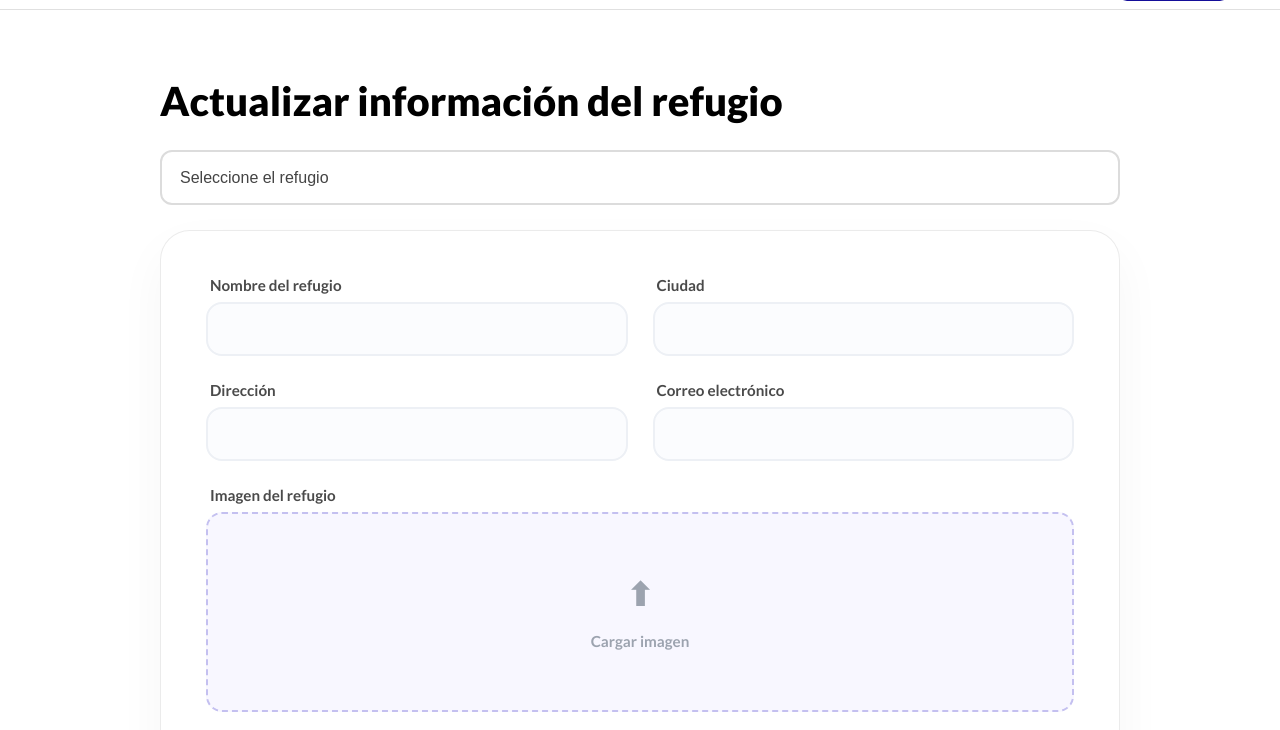
Test case: EditShelter Page › muestra errores si se envía con campos vacíos
This screenshot has width=1280, height=730.
Select "Huellitas" in the dropdown at (640, 178), box [160,150,1120,205]
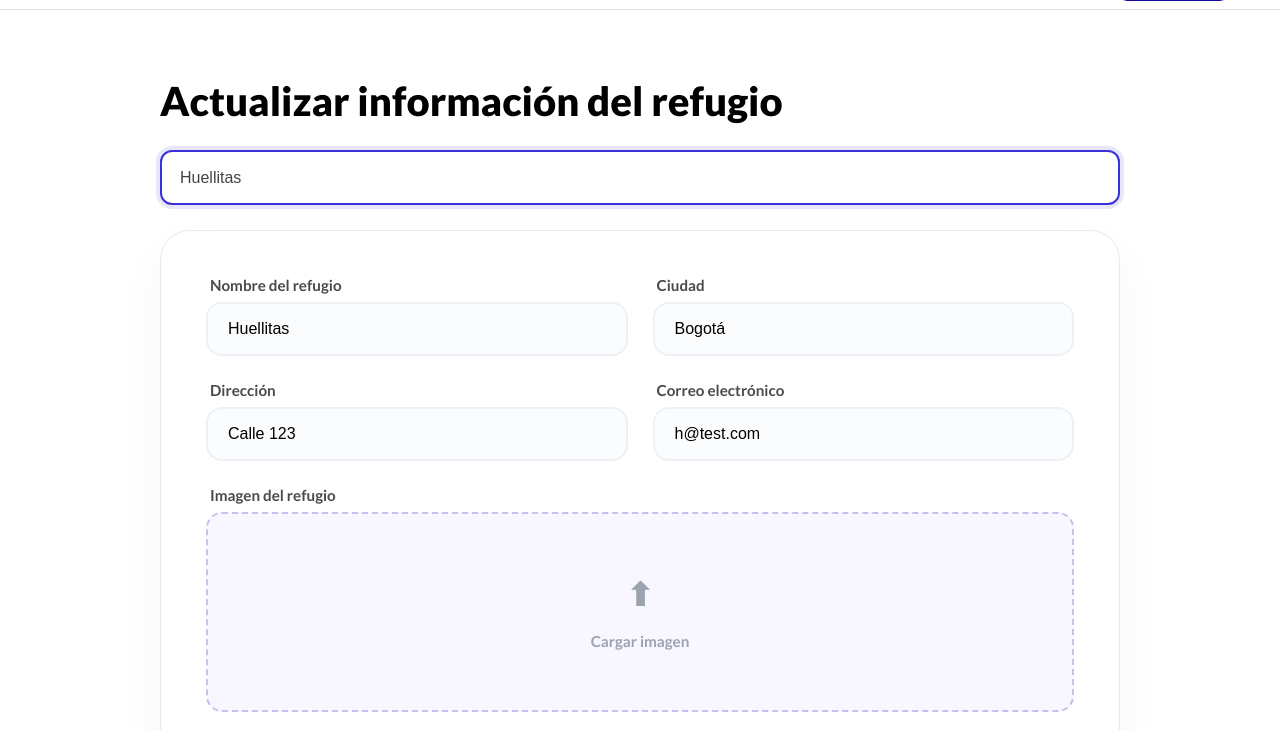
Clear the field named "name" below "Nombre del refugio" at (417, 329), box [206,302,628,356]
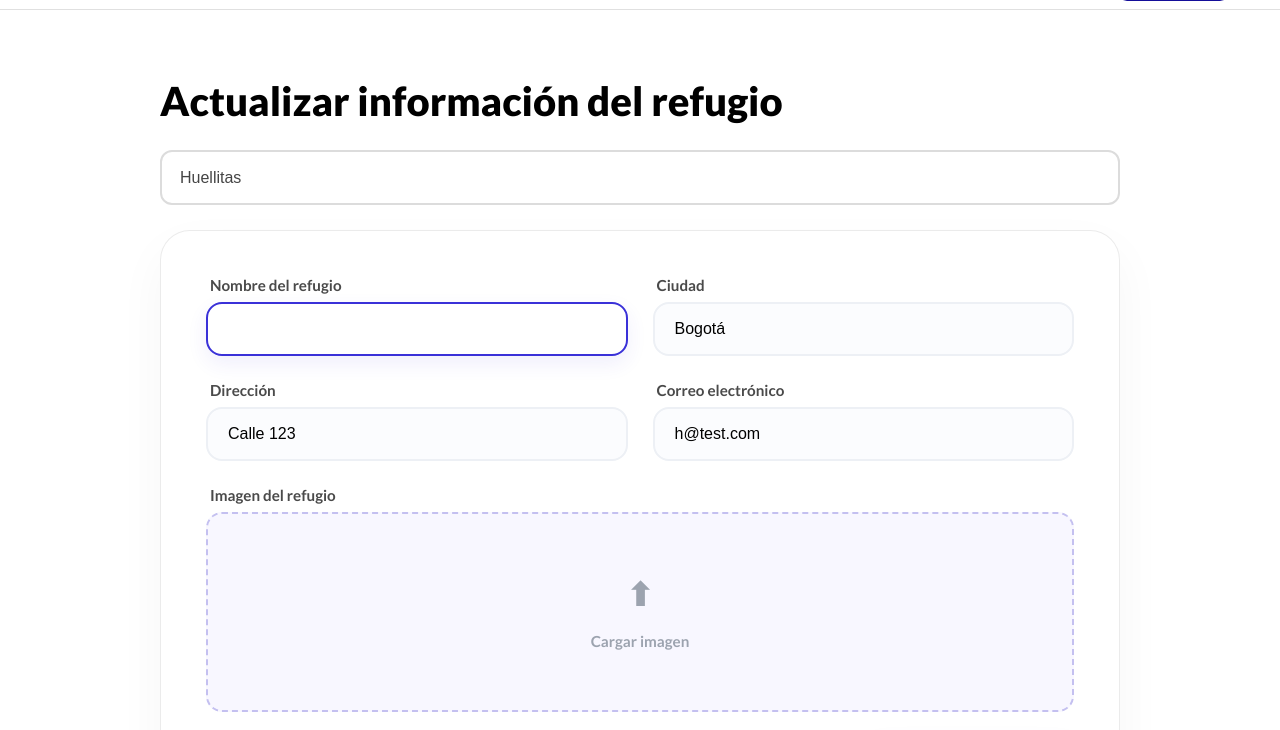
Scroll
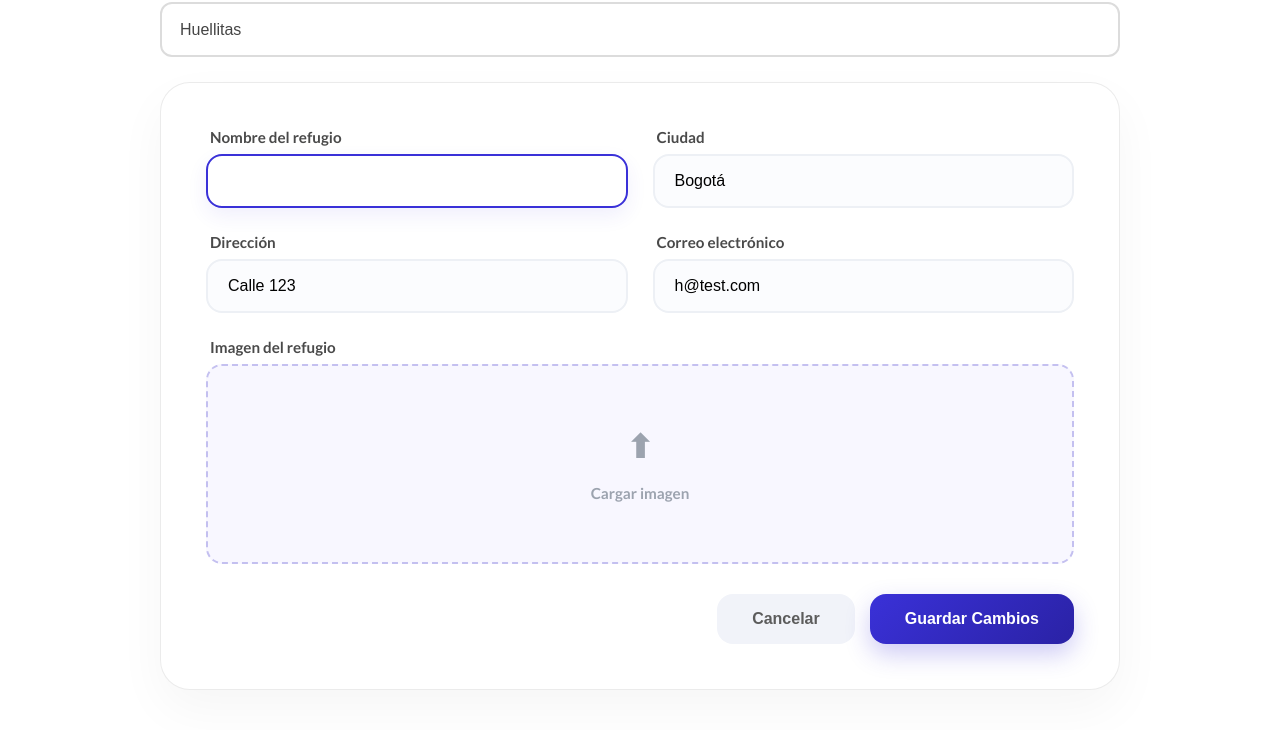
Click the button "Guardar Cambios" at (972, 619), box [870,594,1074,644]
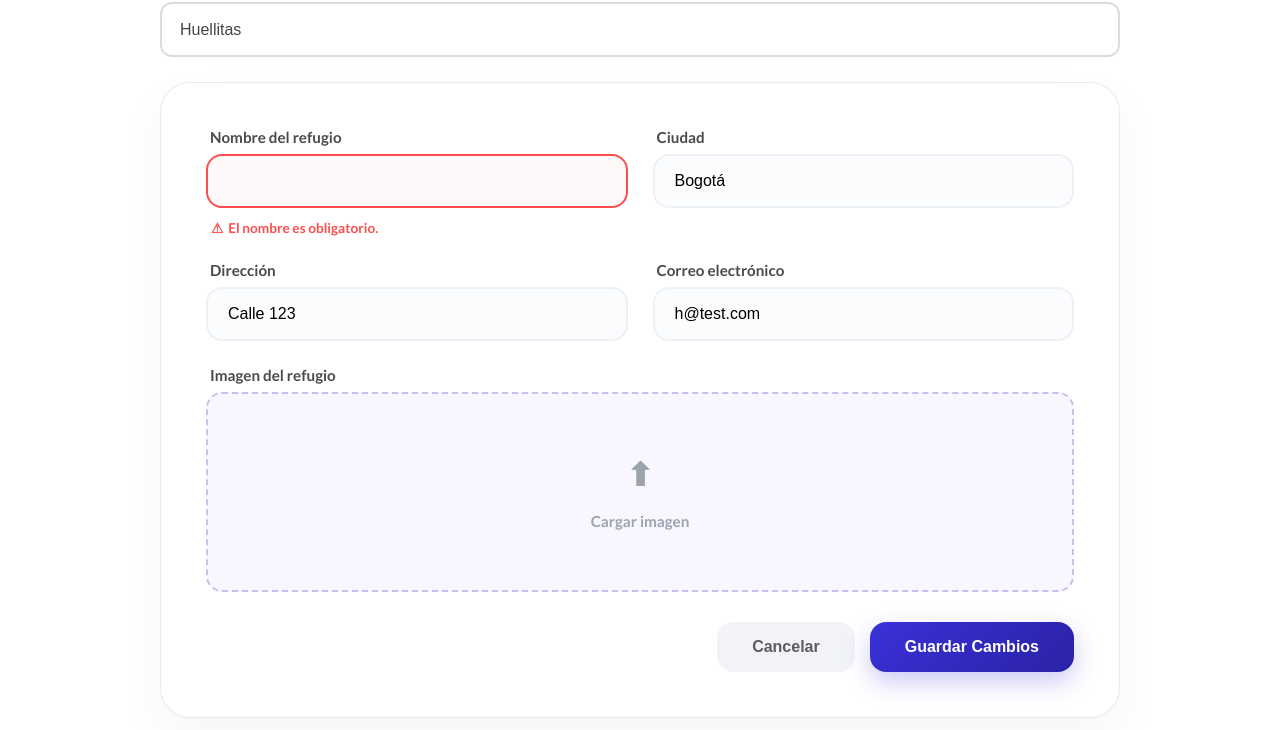
Result: the text "El nombre es obligatorio." is shown at [228,220,378,236]
